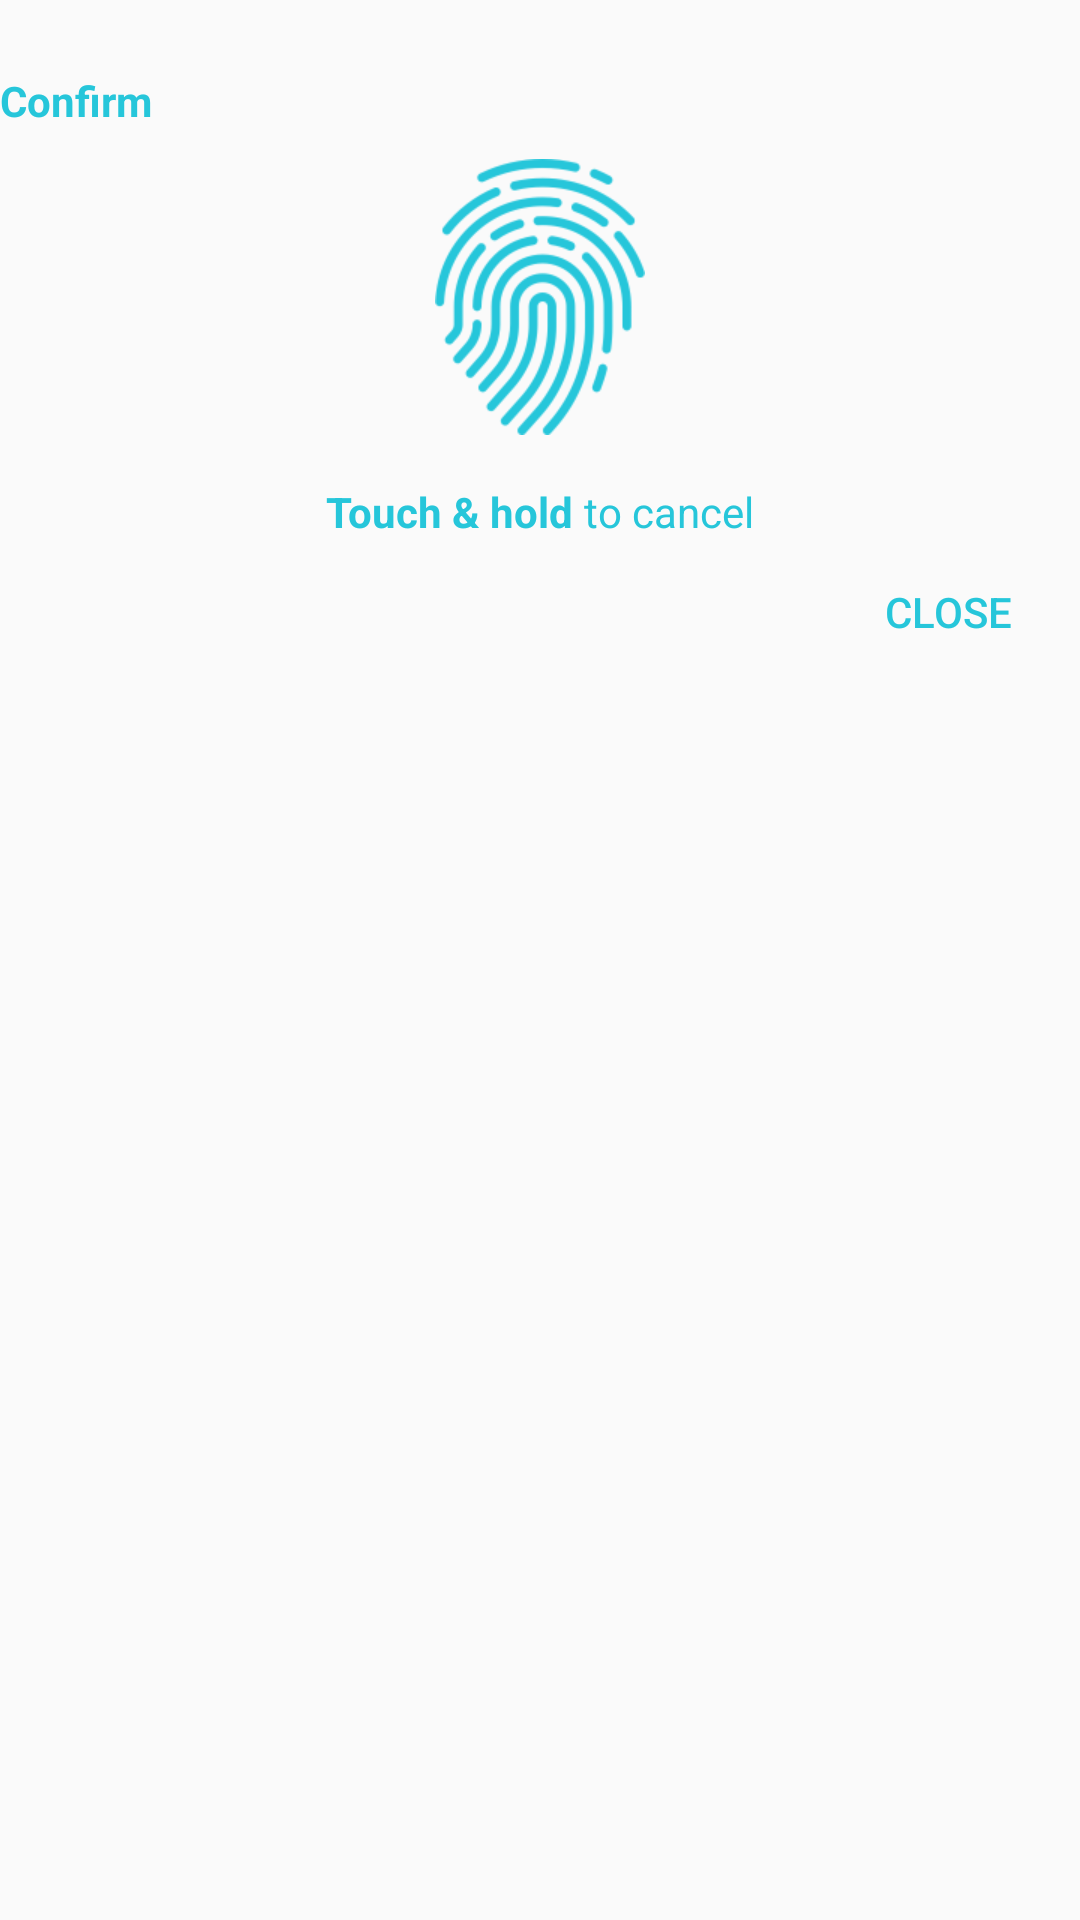

Point at icon controls on the screen. Image size 1080w x 1920h, points as (x=x, y=y).
fingerprint: (x=540, y=297)
